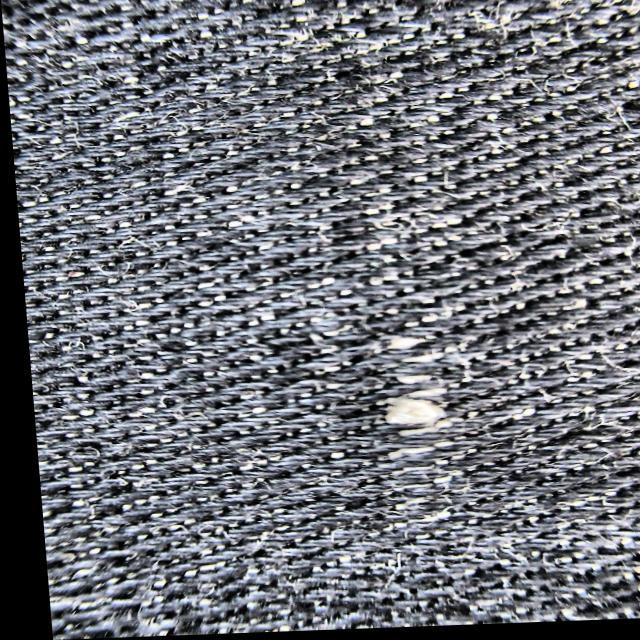Hole: (374, 337, 451, 533)
